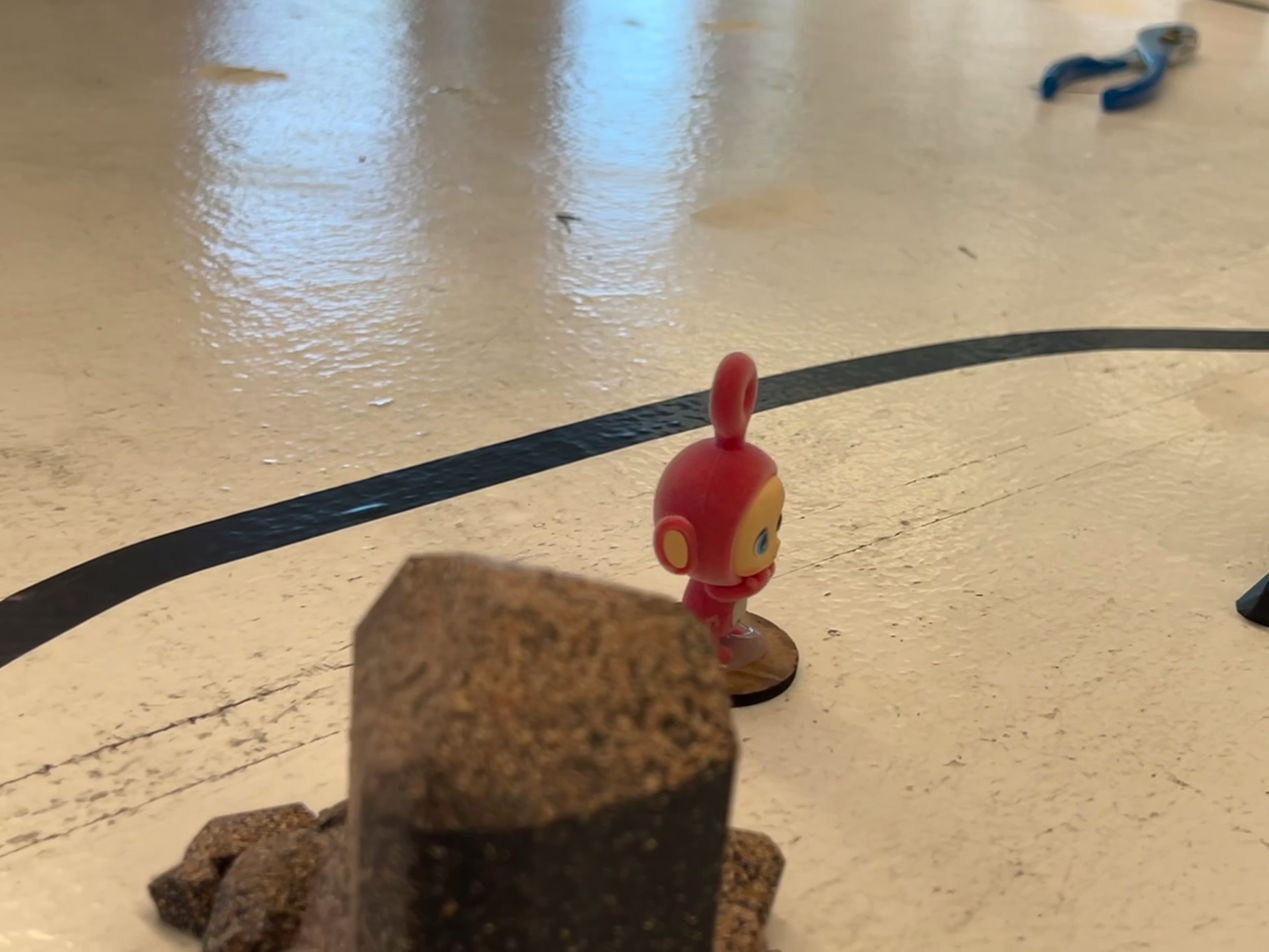teletubby: (654, 352, 785, 665)
